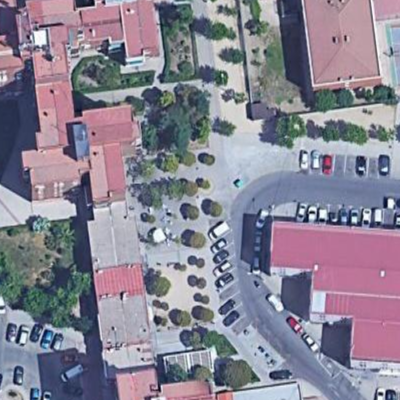tree: (59, 274, 97, 334), (149, 106, 197, 146), (221, 356, 257, 394), (21, 281, 53, 321), (276, 113, 311, 149), (139, 184, 169, 211), (176, 177, 207, 200), (371, 82, 398, 108), (204, 19, 228, 48), (193, 115, 215, 146), (314, 87, 339, 114), (164, 360, 187, 387), (349, 120, 370, 149), (339, 83, 359, 112), (191, 361, 215, 385), (187, 230, 210, 253), (177, 148, 198, 172), (211, 65, 231, 90), (208, 196, 227, 222), (199, 306, 221, 328), (181, 202, 202, 225), (170, 305, 190, 329), (145, 275, 164, 299), (323, 120, 340, 146), (28, 216, 51, 235), (230, 45, 247, 68)
